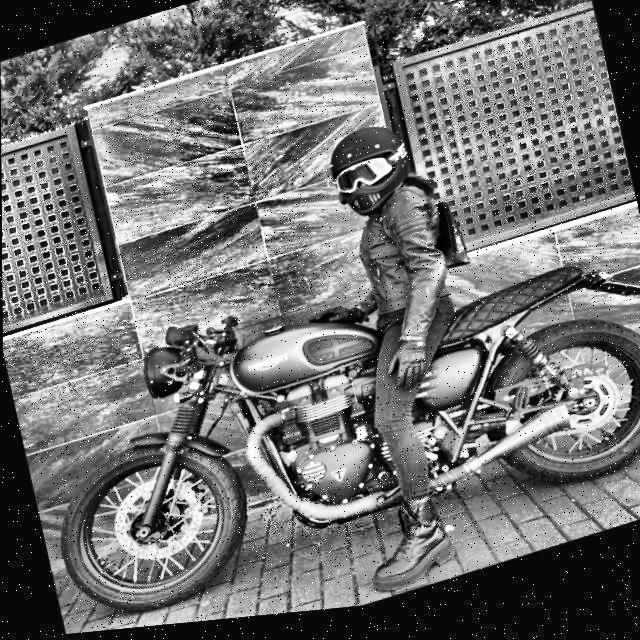Helmet: (317, 118, 424, 240)
